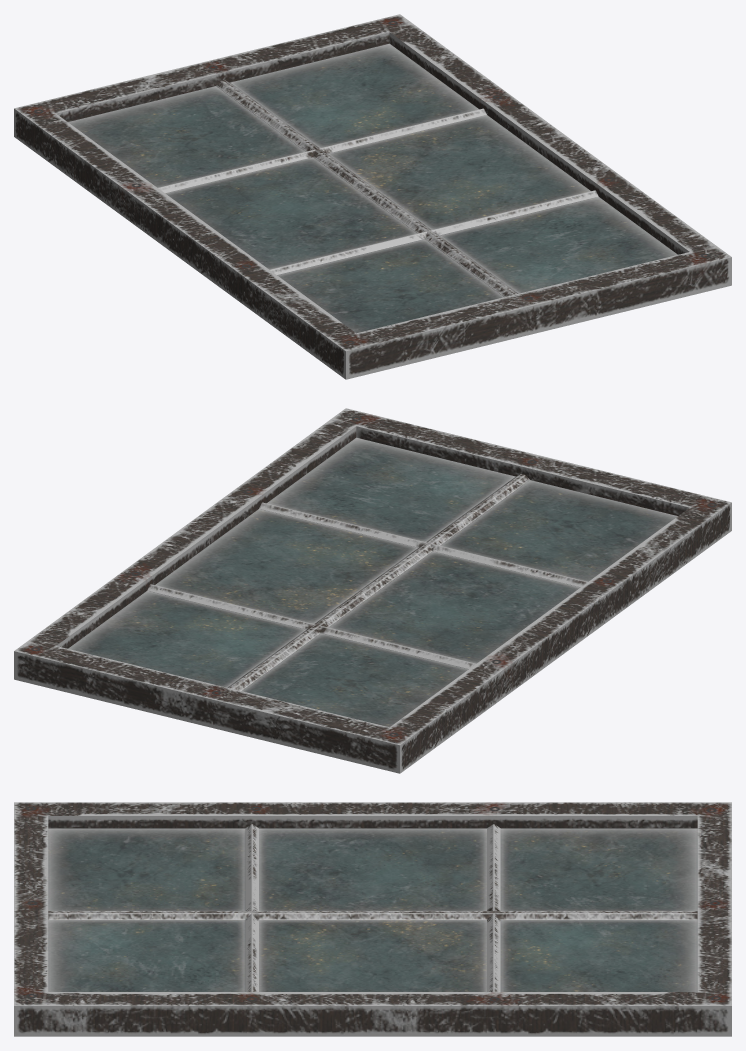
File: old_window_door.glb
3 renders of one model, top to bottom at view 1: azimuth 30°, elevation 25°; view 2: azimuth 150°, elevation 25°; view 3: azimuth 270°, elevation 25°, orthographic. The views are drawn at different scales.
Visible parts, largest first — view 1: pPlane3; view 2: pPlane3; view 3: pPlane3.
Part boxes in pixels (x1=…): pPlane3: x1=14, y1=14, x2=731, y2=379; pPlane3: x1=14, y1=408, x2=731, y2=773; pPlane3: x1=14, y1=802, x2=731, y2=1036.
Size of the model in its own units: 7.98 by 0.5618 by 11.89.
Materials: 1 (1 with a texture image).
